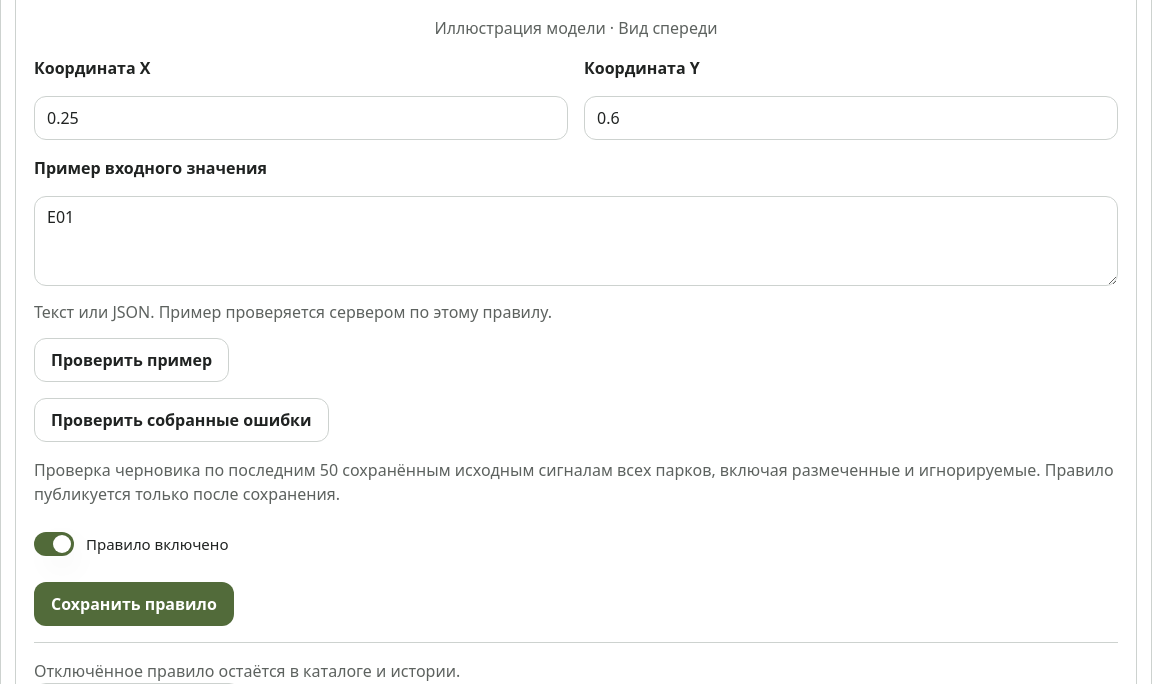
Scenario: shows the backend preview failure without exposing validation input
This screenshot has width=1152, height=684.
(page scrolled)
Click the button "Проверить пример": click(132, 360) [34,338,229,382]
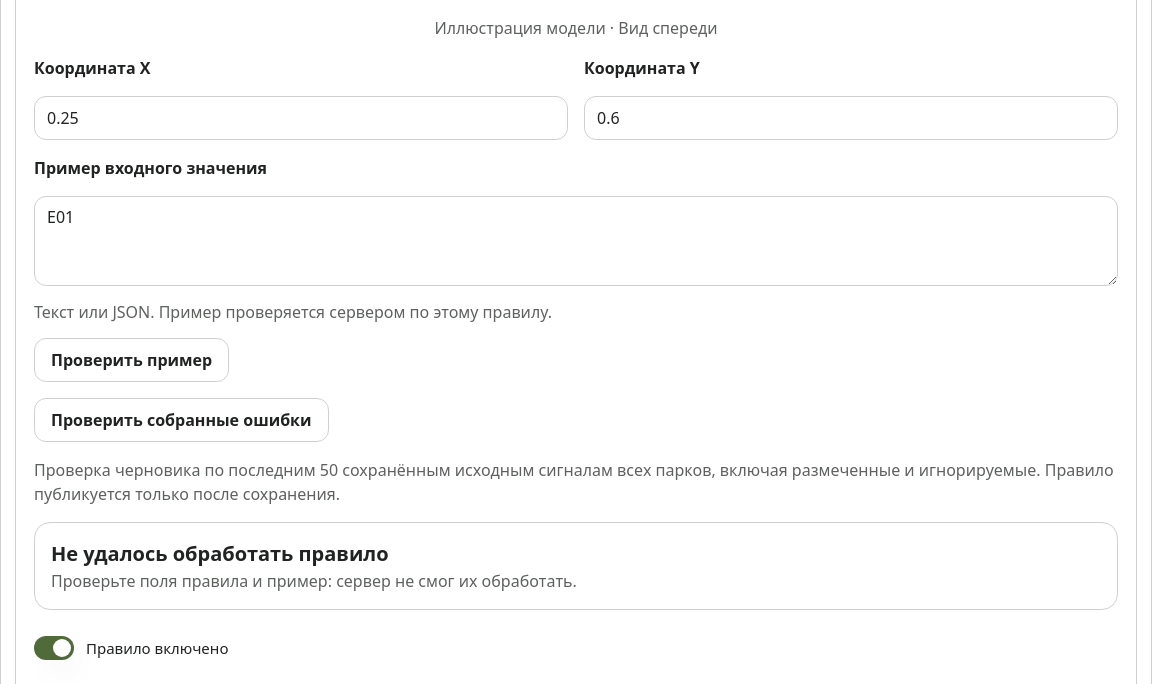
Now the text "Проверьте поля правила" is shown, box [51,570,577,592]
